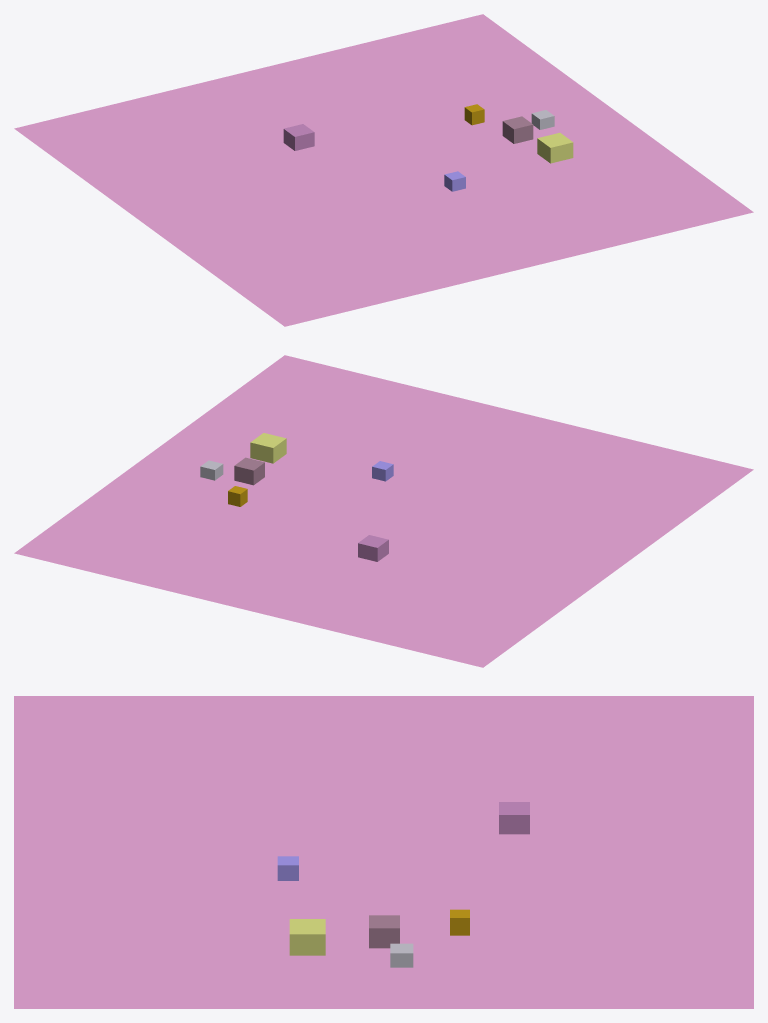
3 views of the same model, one above another, from view 1: azimuth 30°, elevation 25°; view 2: azimuth 150°, elevation 25°; view 3: azimuth 270°, elevation 25° (orthographic). The views are drawn at different scales.
Visible parts, largest first — view 1: Chunk_0_1; view 2: Chunk_0_1; view 3: Chunk_0_1.
Part boxes in pixels (x1,y1,x2,y2): Chunk_0_1: (14,14,753,326); Chunk_0_1: (14,355,753,667); Chunk_0_1: (14,696,753,1008).
Size of the model in its own units: 1500 by 73.35 by 1500.
